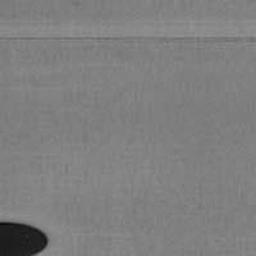Punching: (0, 220, 50, 256)
